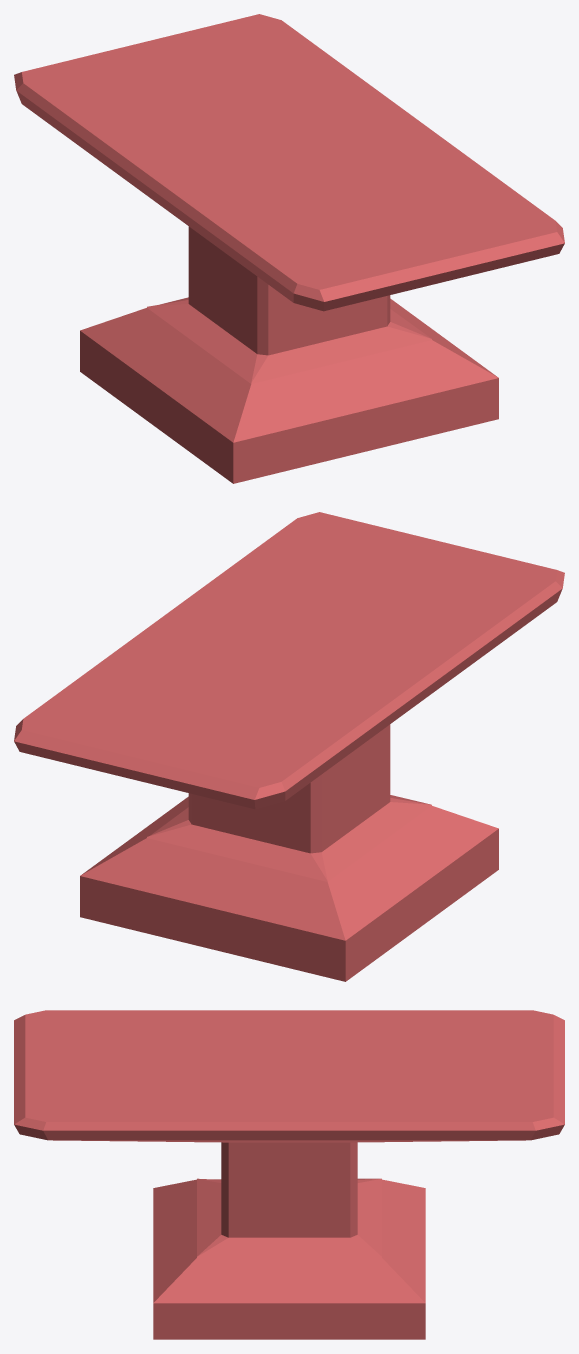
The model's file is c_table.glb.
3 views of the same model, one above another, from view 1: azimuth 30°, elevation 25°; view 2: azimuth 150°, elevation 25°; view 3: azimuth 270°, elevation 25° (orthographic). The views are drawn at different scales.
Parts seen in each view (by area): view 1: C_Table; view 2: C_Table; view 3: C_Table.
Boxes of the visible parts, x1,y1,x2,y2 form: C_Table: (14, 14, 564, 483); C_Table: (14, 512, 564, 981); C_Table: (14, 1010, 564, 1339).
Size of the model in its own units: 0.7323 by 0.6329 by 1.46.
Materials: 1 (1 with a texture image).
